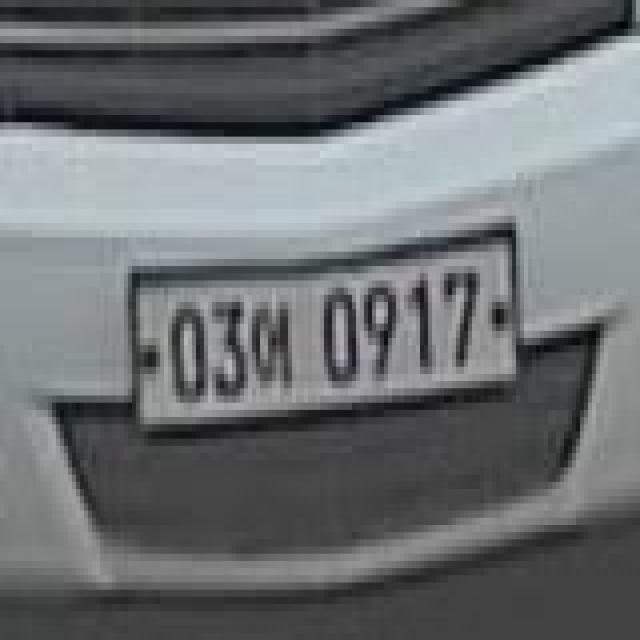illegal_plate: (122, 226, 525, 440)
